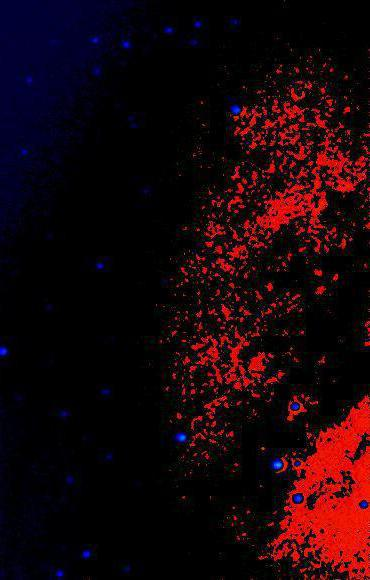star: (251, 436, 281, 466)
